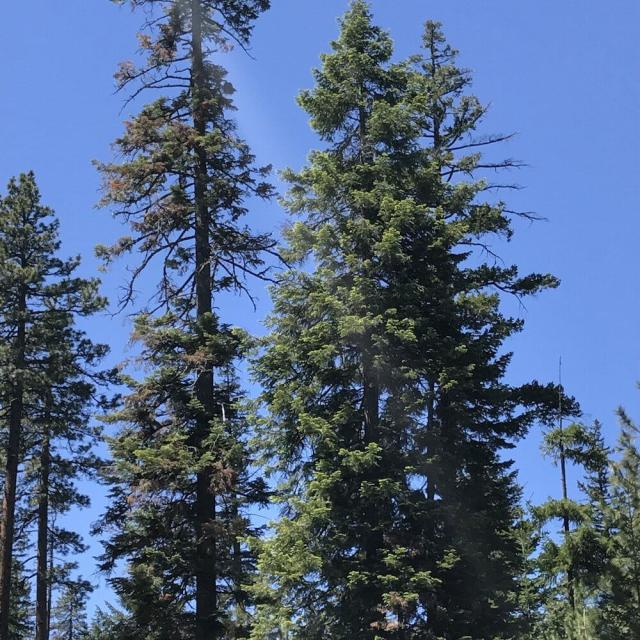Abies: (280, 0, 459, 609), (110, 0, 277, 581)
